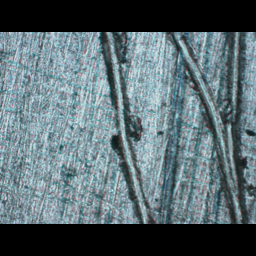d: (168, 32, 247, 224), (95, 32, 155, 224)
